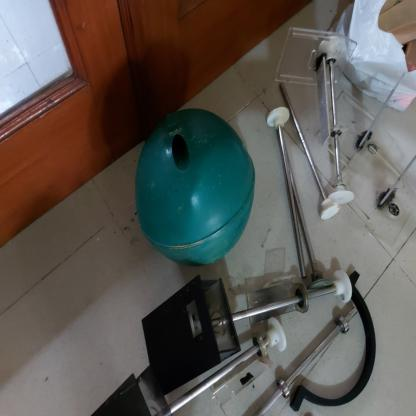green_buoy: (133, 105, 258, 271)
